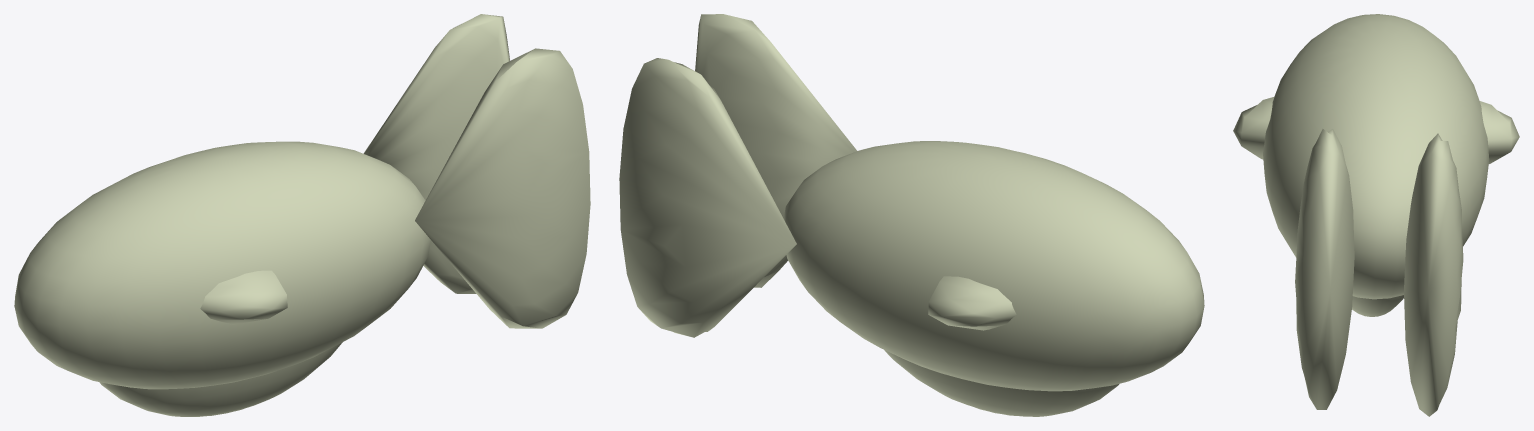
The picture shows the model from 3 angles, left to right: view 1: azimuth 30°, elevation 25°; view 2: azimuth 150°, elevation 25°; view 3: azimuth 270°, elevation 25°; orthographic projection. The views are drawn at different scales.
Parts seen in each view (by area): view 1: sphere1_sep11, sphere1_sep8, sphere1, sphere1_sep9, sphere1_sep10; view 2: sphere1_sep11, sphere1, sphere1_sep8, sphere1_sep9, sphere1_sep10; view 3: sphere1_sep11, sphere1_sep8, sphere1, sphere1_sep10, sphere1_sep9.
Part boxes in pixels (x1,y1,x2,y2): sphere1_sep11: (14, 141, 430, 389); sphere1_sep8: (415, 48, 590, 328); sphere1: (363, 14, 509, 293); sphere1_sep9: (99, 342, 342, 416); sphere1_sep10: (200, 270, 287, 324); sphere1_sep11: (783, 141, 1204, 391); sphere1: (619, 58, 796, 337); sphere1_sep8: (695, 14, 856, 287); sphere1_sep9: (884, 350, 1119, 416); sphere1_sep10: (928, 276, 1016, 330); sphere1_sep11: (1263, 14, 1489, 299); sphere1_sep8: (1295, 129, 1354, 409); sphere1: (1404, 133, 1463, 416); sphere1_sep10: (1233, 96, 1519, 163); sphere1_sep9: (1352, 295, 1403, 316).
Size of the model in its own units: 0.7749 by 0.428 by 0.3669.
